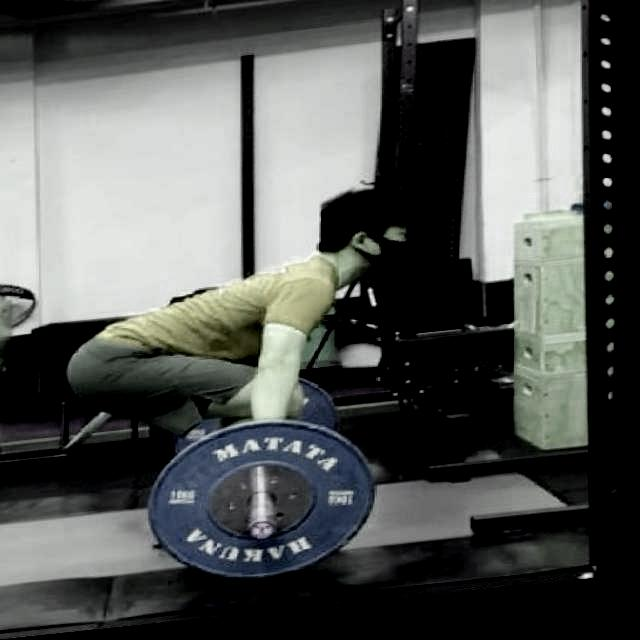barbell: (148, 414, 380, 599)
